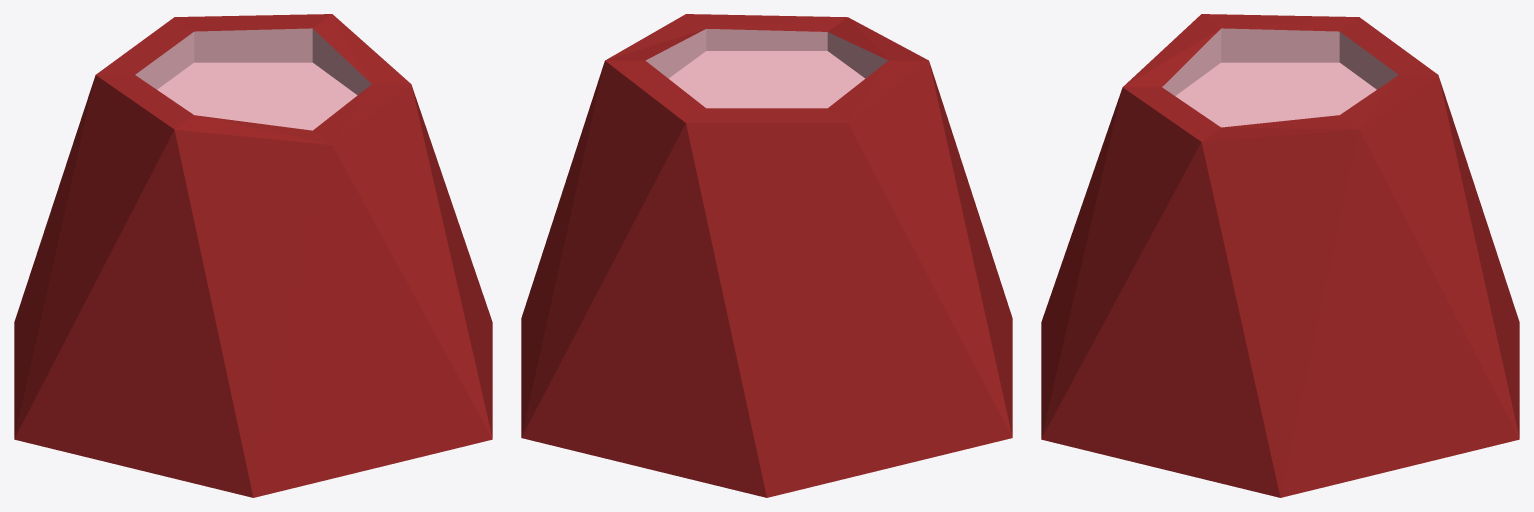
The model's file is tree_stump_1.fbx.
The picture shows the model from 3 angles, left to right: view 1: azimuth 30°, elevation 25°; view 2: azimuth 150°, elevation 25°; view 3: azimuth 270°, elevation 25°; orthographic projection. The views are drawn at different scales.
Parts seen in each view (by area): view 1: G-Object; view 2: G-Object; view 3: G-Object.
Part boxes in pixels (x1,y1,x2,y2): G-Object: (14, 14, 492, 497); G-Object: (521, 14, 1012, 497); G-Object: (1041, 14, 1519, 497).
Bounding box in the file's own units: 80.83 × 49.93 × 70.
